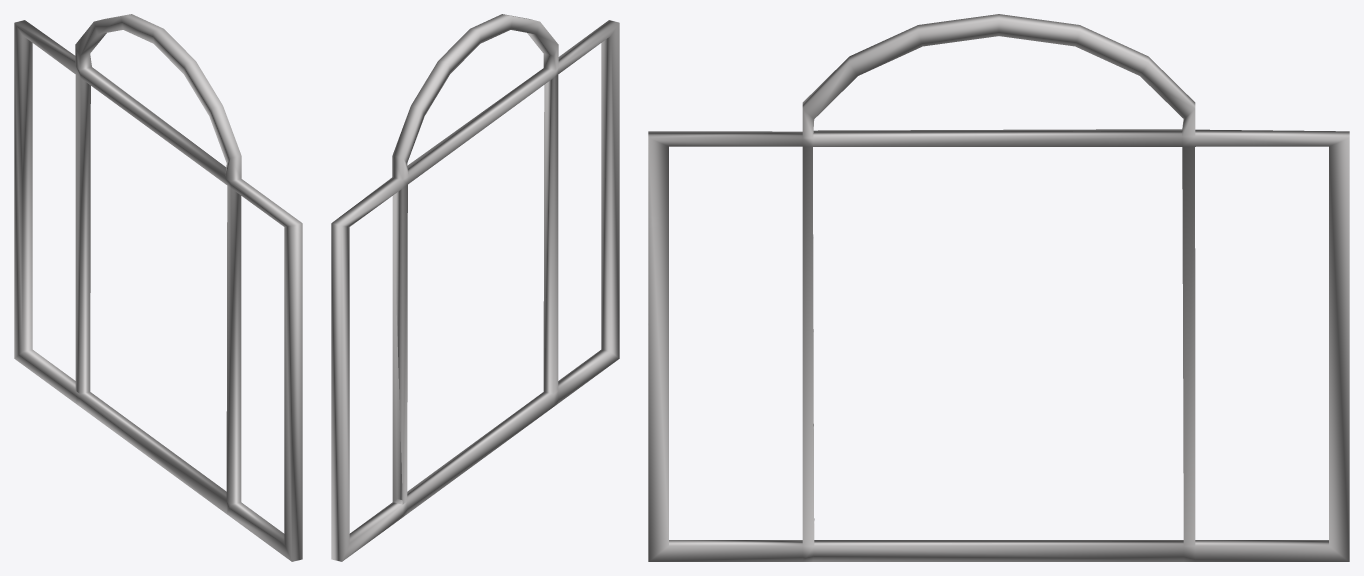
The model's file is terracewindow.obj.
3 renders of one model, left to right at view 1: azimuth 30°, elevation 25°; view 2: azimuth 150°, elevation 25°; view 3: azimuth 270°, elevation 25°, orthographic. The views are drawn at different scales.
Parts seen in each view (by area): view 1: polySurface195; view 2: polySurface195; view 3: polySurface195.
Boxes of the visible parts, left/top/right/bottom form: polySurface195: left=14, top=14, right=302, bottom=561; polySurface195: left=331, top=14, right=619, bottom=561; polySurface195: left=648, top=14, right=1349, bottom=561.
Bounding box in the file's own units: 5.98 × 186 × 218.
Materials: 1 (1 with a texture image).
